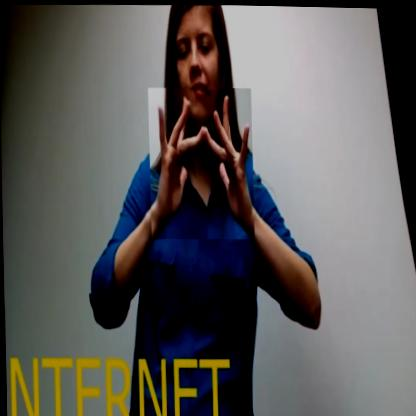Internet: (147, 85, 254, 239)
